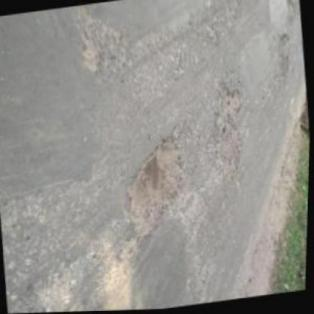Hueco: (118, 134, 194, 246), (208, 81, 252, 185), (273, 33, 295, 81), (281, 0, 298, 24)
